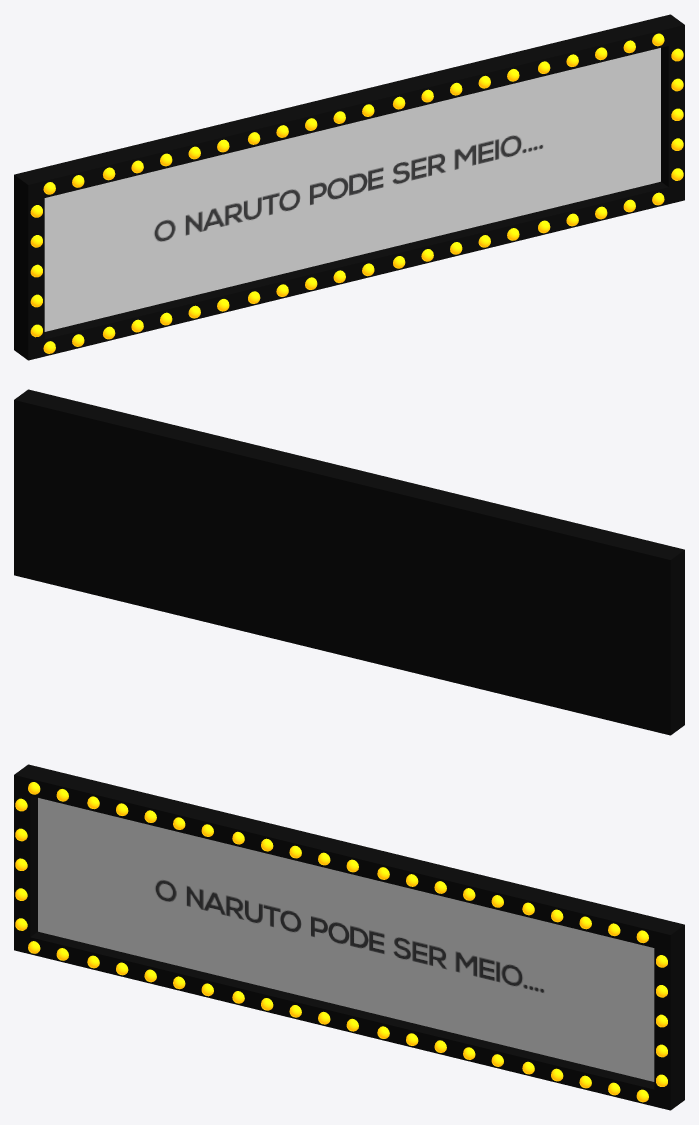
File: LetreinoQuest_Mapa10.FBX
The picture shows the model from 3 angles, top to bottom: view 1: azimuth 30°, elevation 25°; view 2: azimuth 150°, elevation 25°; view 3: azimuth 330°, elevation 25°; orthographic projection.
Visible parts, largest first — view 1: Box001; view 2: Box001; view 3: Box001.
Boxes of the visible parts, box(x1,y1,x2,y2) form: Box001: box(14, 14, 684, 360); Box001: box(14, 389, 684, 735); Box001: box(14, 764, 684, 1110).
Bounding box in the file's own units: 278 × 71.01 × 13.15.
